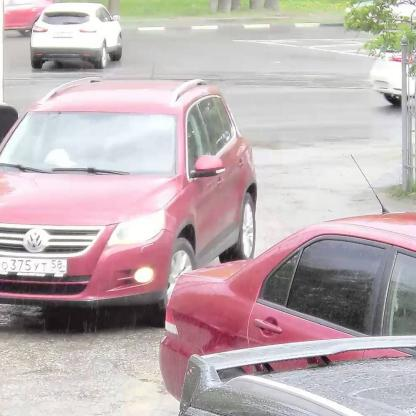plate: (0, 257, 67, 275)
